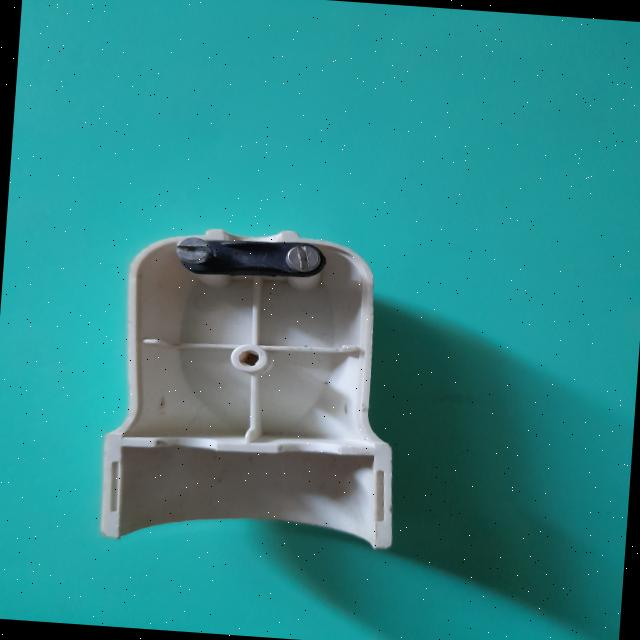Slotted: (174, 235, 212, 264), (286, 244, 320, 272)
